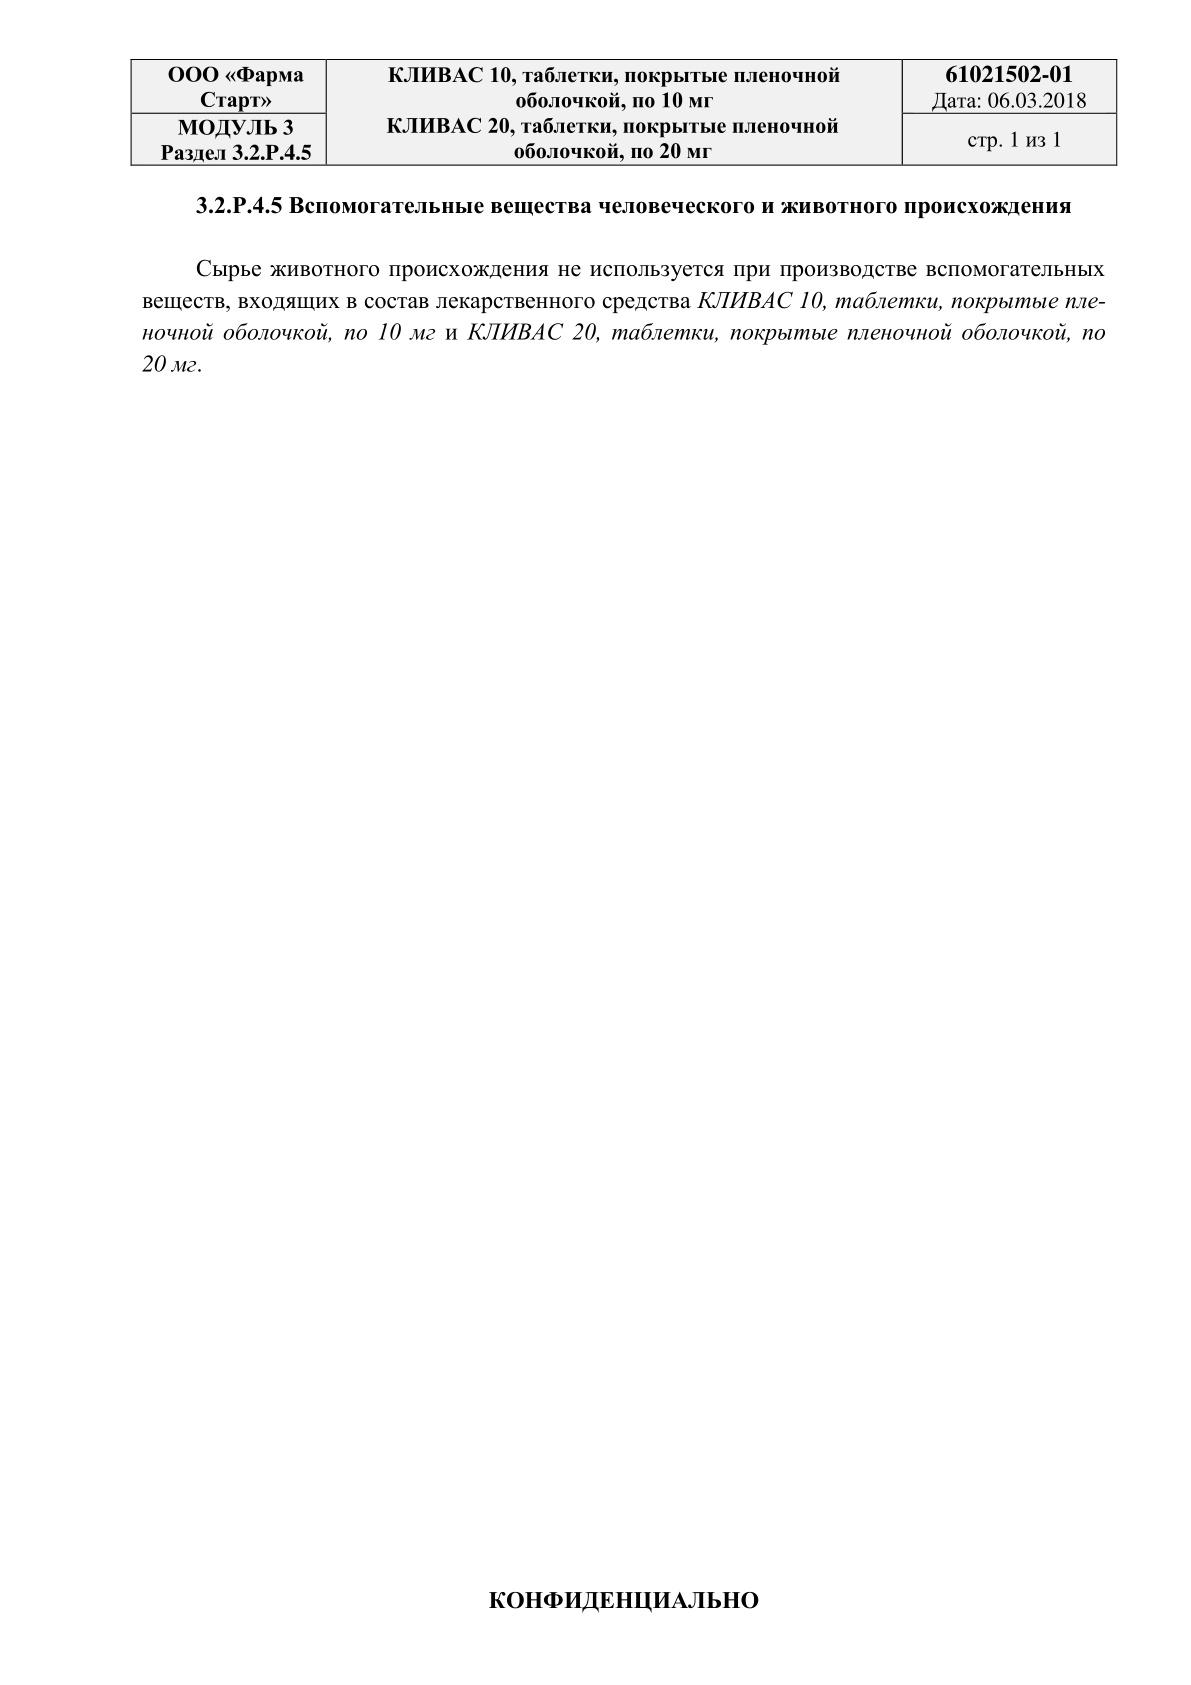merged_cells: (130, 58, 1118, 166)
